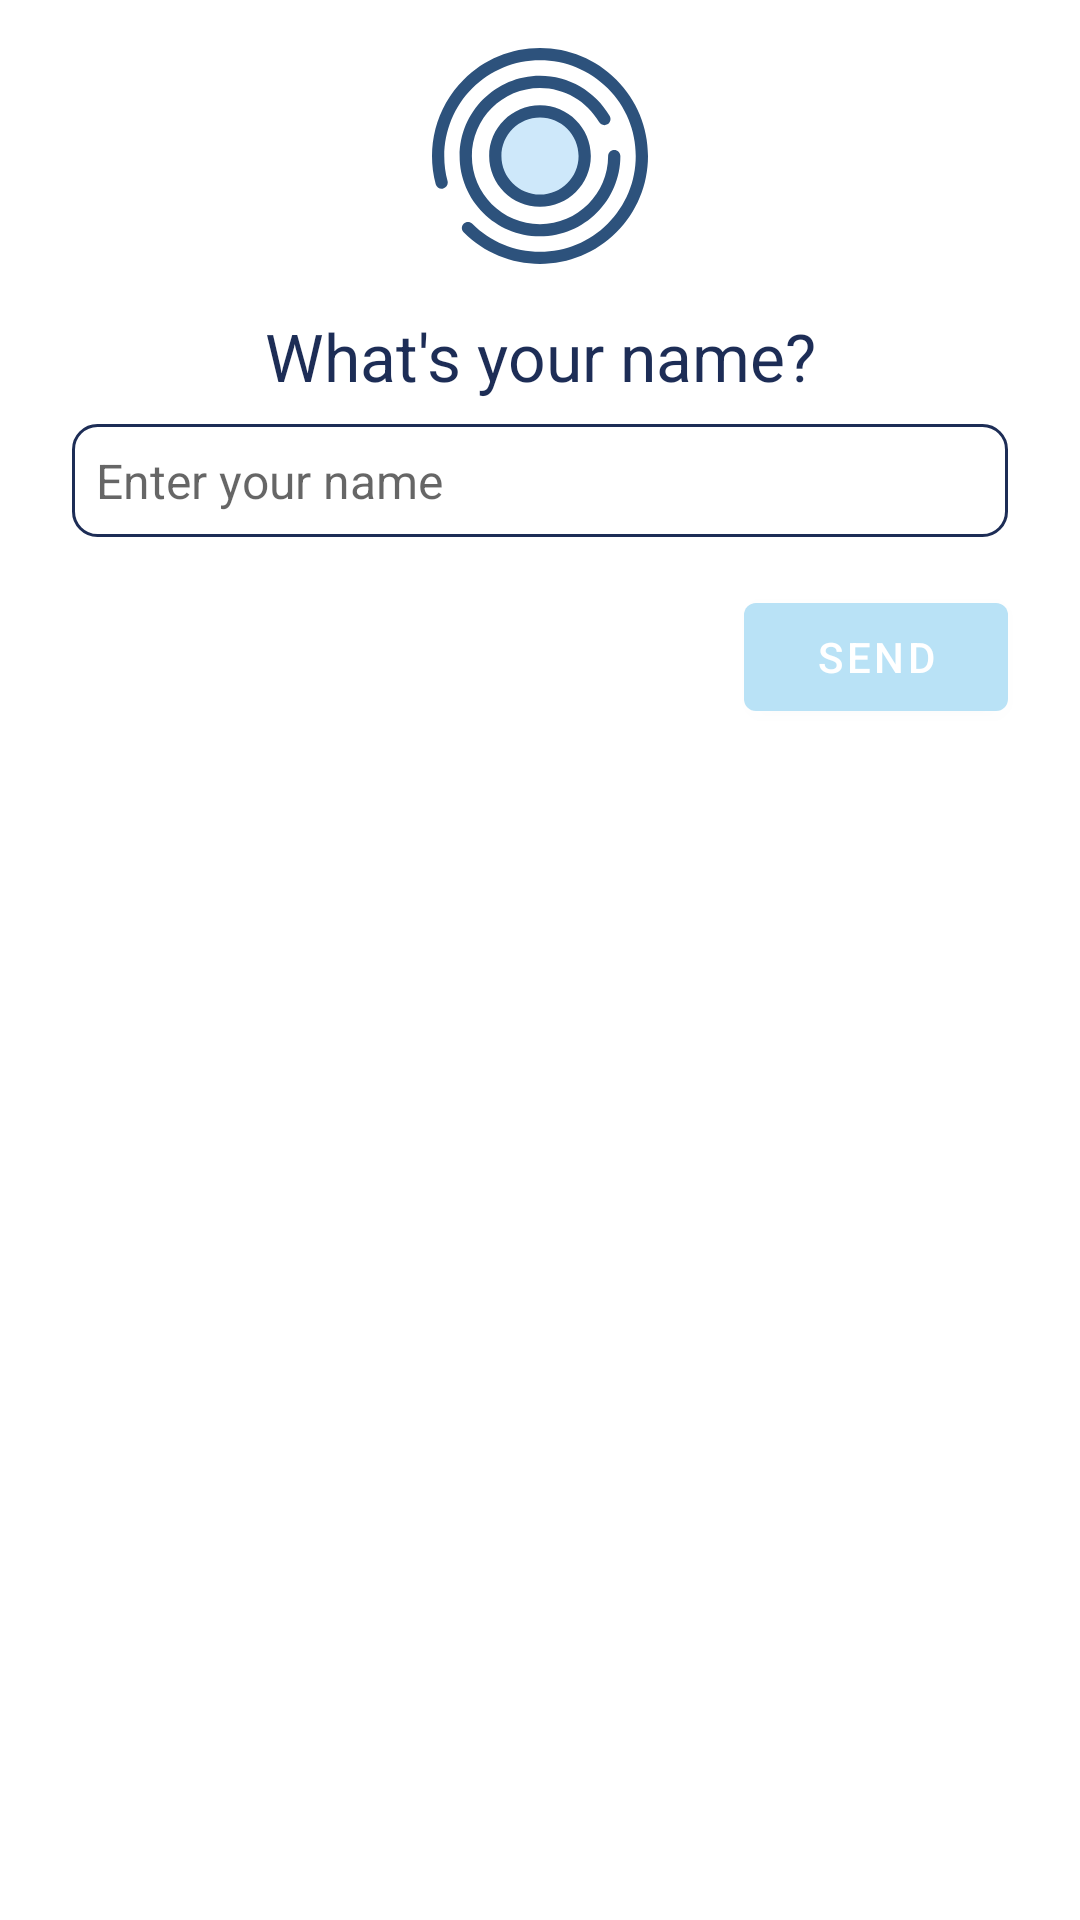

Icon bounding boxes for this 1080*1920 phone screenshot, format (x1, y1, x2, y2):
circle oval: (432, 48, 648, 264)
